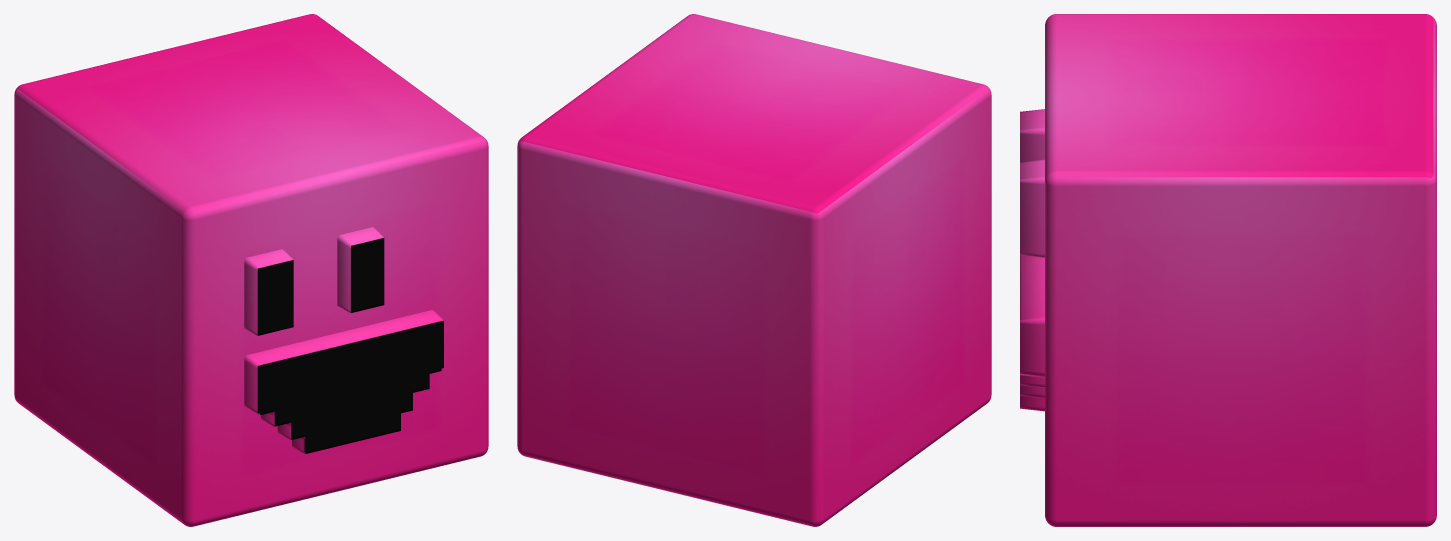
3 renders of one model, left to right at view 1: azimuth 30°, elevation 25°; view 2: azimuth 150°, elevation 25°; view 3: azimuth 270°, elevation 25°, orthographic. The views are drawn at different scales.
Parts seen in each view (by area): view 1: cube, mouth, eyes; view 2: cube; view 3: cube, mouth, eyes.
Boxes of the visible parts, left/top/right/bottom form: cube: left=14, top=14, right=488, bottom=526; mouth: left=244, top=310, right=443, bottom=453; eyes: left=244, top=227, right=384, bottom=335; cube: left=517, top=14, right=991, bottom=526; cube: left=1045, top=14, right=1436, bottom=526; mouth: left=1020, top=255, right=1044, bottom=411; eyes: left=1020, top=109, right=1044, bottom=257.
Size of the model in its own units: 200 by 200 by 213.
Materials: 3 (2 with a texture image).
